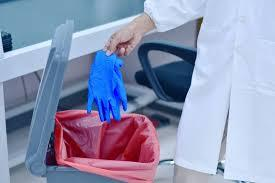Glove: (87, 51, 126, 121)
